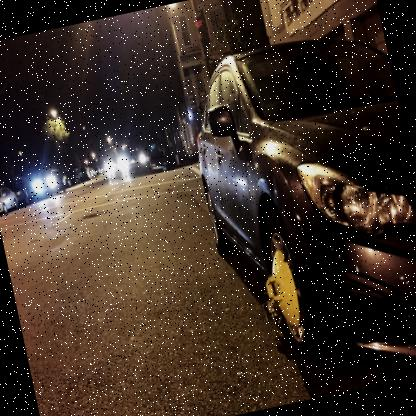Car: (174, 11, 415, 373), (0, 157, 111, 216), (147, 152, 170, 174)
